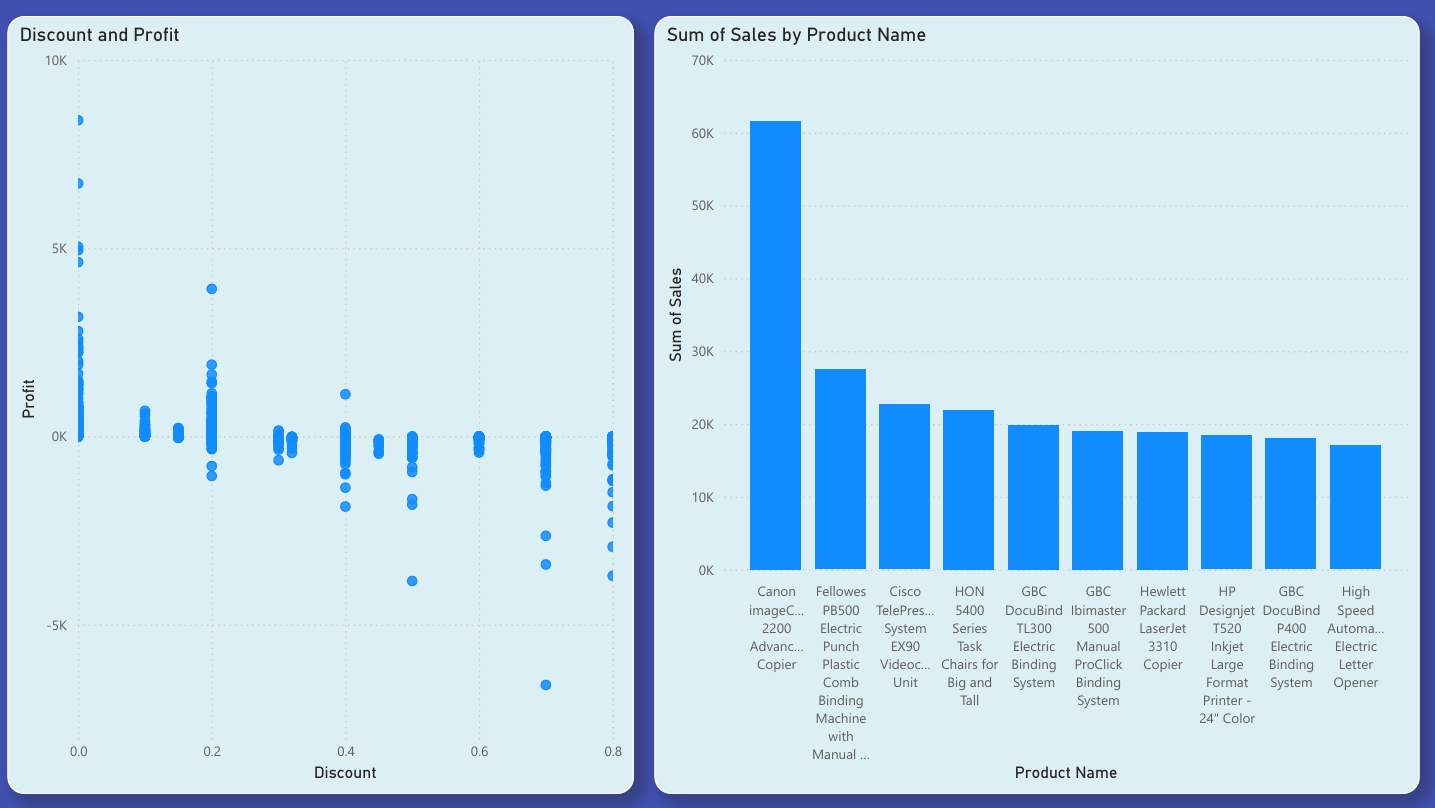

This screenshot's page, from the dashboard's own definition file:
{"tool":"powerbi","page":{"name":"Advance Analysis","canvas":[1280,720],"ordinal":2},"visuals":[{"type":"scatterChart","fields":{"X":["Superstore Sales Dataset.Discount"],"Y":["Superstore Sales Dataset.Profit"]},"box":[18.3,15,548.3,690],"z":0},{"type":"columnChart","fields":{"Category":["Superstore Sales Dataset.Product Name"],"Y":["Sum(Superstore Sales Dataset.Sales)"]},"box":[583.8,15,678.8,690],"z":1000}]}

Visuals, with their boxes in screenshot pixels (x1, y1, x2, y2), scaled from the page's 1280x720 canvas onto the 1435x808 screenshot:
scatterChart - Superstore Sales Dataset.Discount x Superstore Sales Dataset.Profit: (21,17,635,791)
columnChart - Superstore Sales Dataset.Product Name x Sum(Superstore Sales Dataset.Sales): (654,17,1415,791)
